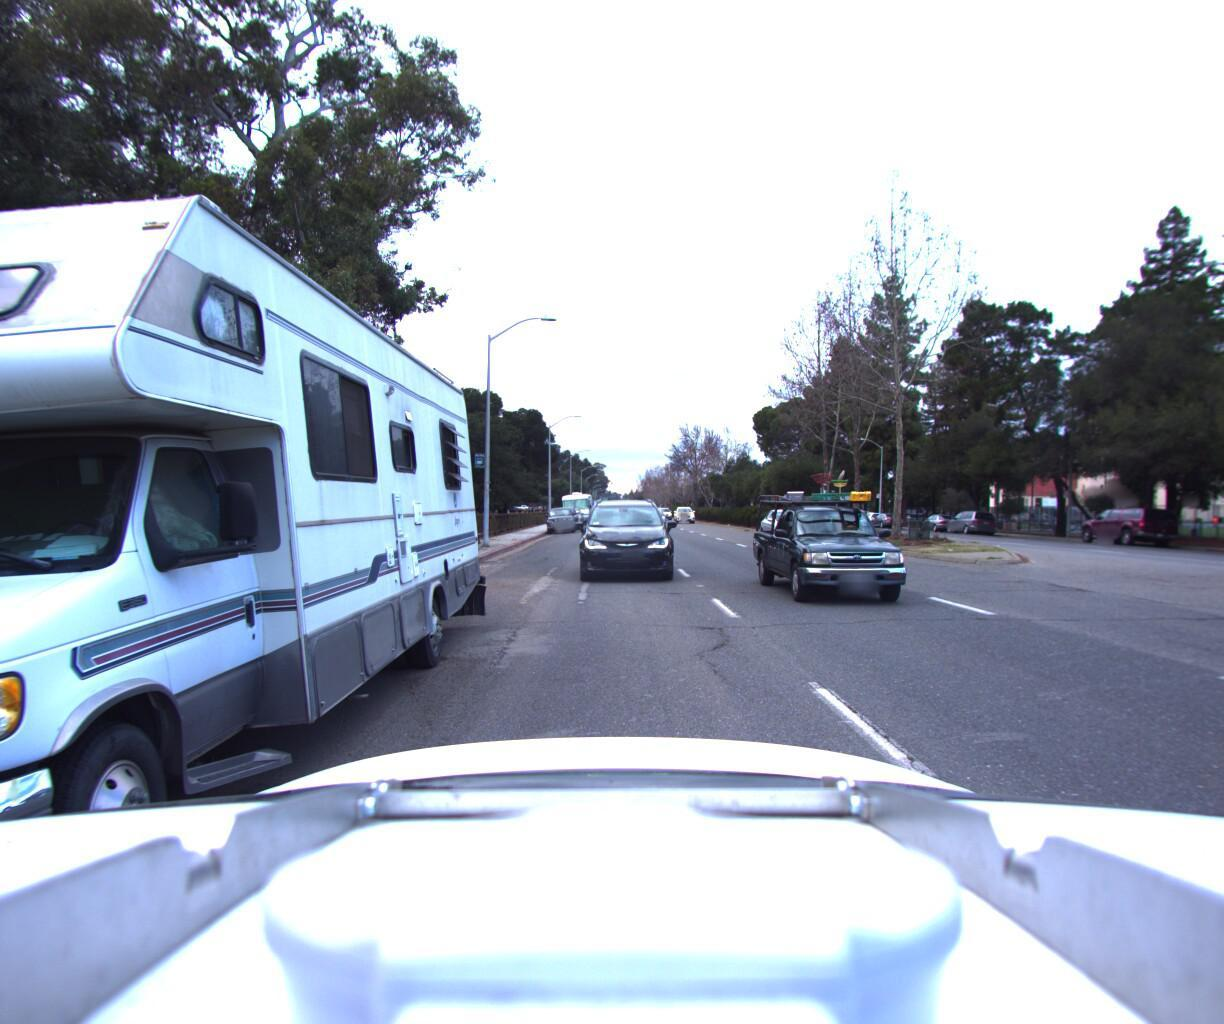car: (760, 449, 956, 622), (579, 491, 670, 582), (1075, 503, 1192, 544), (762, 505, 829, 546), (942, 506, 999, 534), (915, 508, 963, 530), (546, 502, 575, 531), (673, 502, 696, 521)
other_vehicle: (559, 487, 593, 522)
